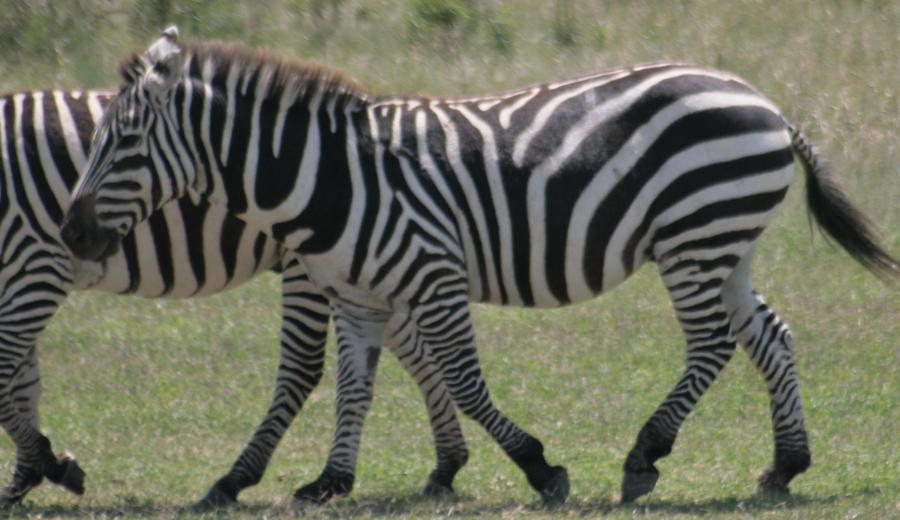zebra_plains: (301, 64, 784, 310)
